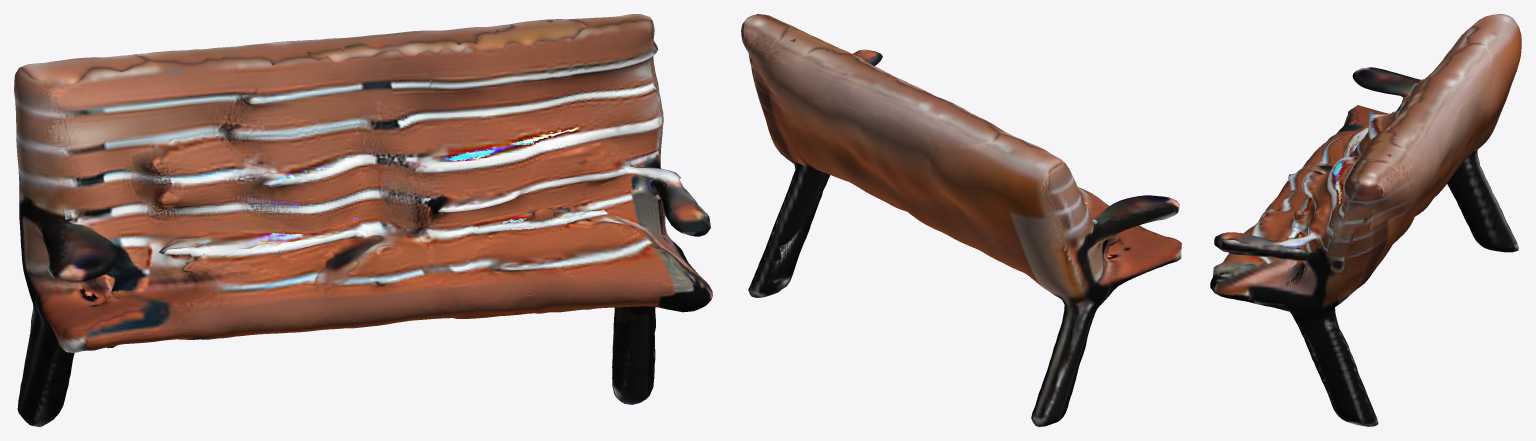
Rendered from 018bc289-c41d-7570-87a7-02119c67cac4.glb.
The picture shows the model from 3 angles, left to right: view 1: azimuth 30°, elevation 25°; view 2: azimuth 150°, elevation 25°; view 3: azimuth 270°, elevation 25°; orthographic projection. The views are drawn at different scales.
Visible parts, largest first — view 1: model.obj; view 2: model.obj; view 3: model.obj.
Boxes of the visible parts, x1,y1,x2,y2 form: model.obj: (14, 14, 712, 426); model.obj: (741, 14, 1181, 426); model.obj: (1210, 14, 1521, 426).
Bounding box in the file's own units: 1.09 × 0.6634 × 0.7439.
1 material, 1 textured.
